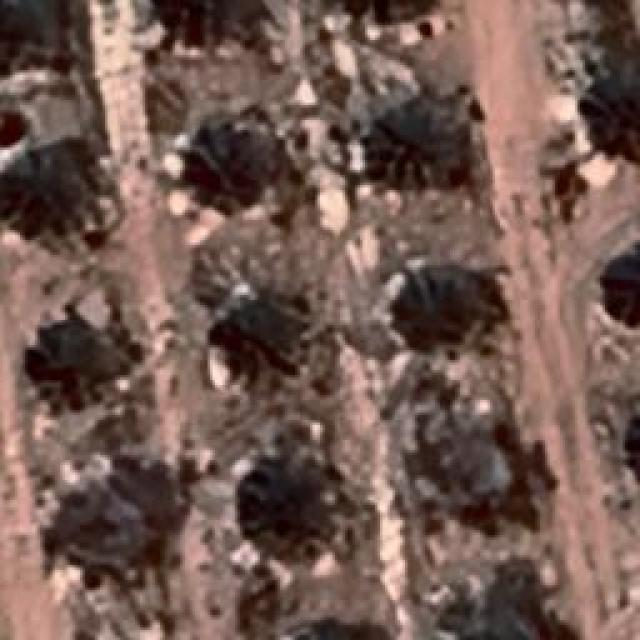PalmTree: (26, 36, 108, 529), (182, 115, 266, 213), (26, 302, 109, 396), (432, 438, 518, 526), (400, 265, 488, 350), (0, 152, 85, 238), (239, 464, 319, 548), (376, 105, 462, 175), (222, 298, 292, 362), (585, 78, 640, 156), (590, 249, 640, 329), (152, 0, 240, 41), (326, 0, 437, 25), (444, 615, 546, 640), (284, 617, 388, 640), (336, 0, 438, 18), (442, 622, 542, 640), (282, 624, 384, 640), (622, 402, 640, 486), (628, 403, 640, 486)
